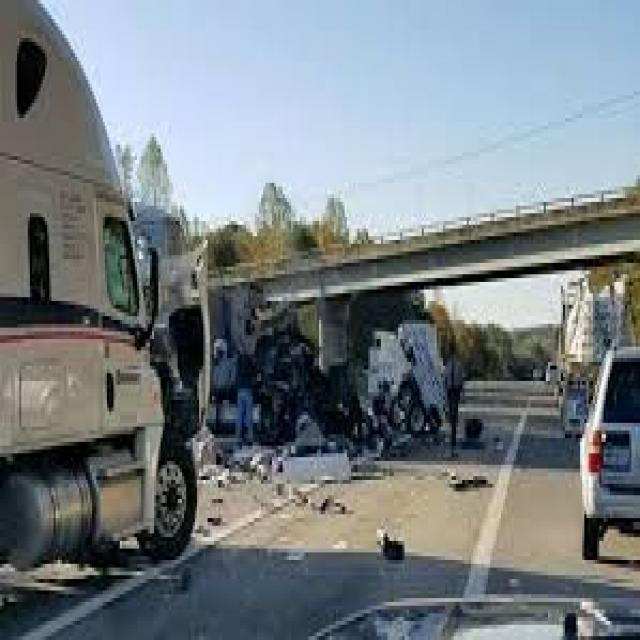accident: (374, 305, 448, 457)
